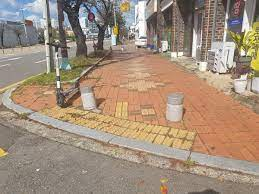guide_blocks: (50, 106, 129, 135), (128, 123, 194, 150)
